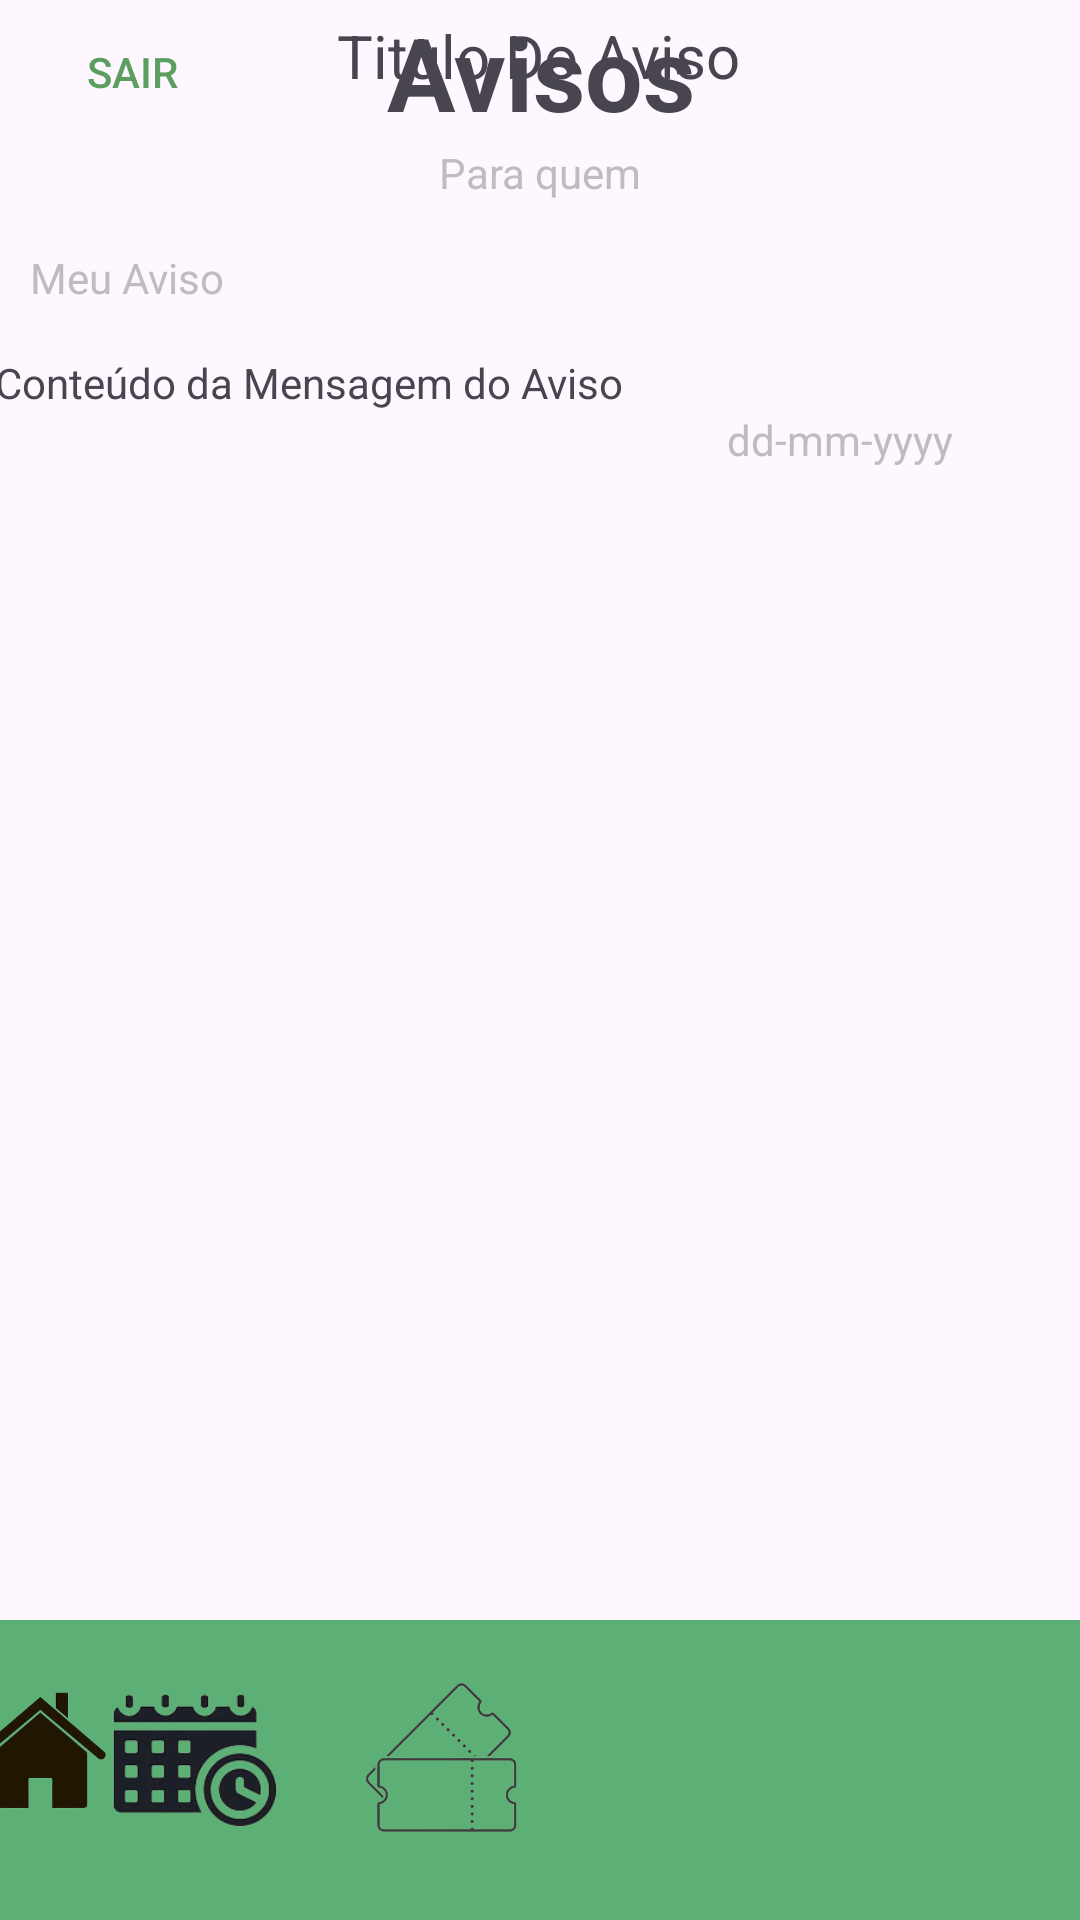

Named icons in this screenshot (1080 × 1920) and their bounding boxes, (x1, y1, x2, y2):
reserva: (114, 1694, 276, 1826)
ticket: (366, 1683, 517, 1832)
